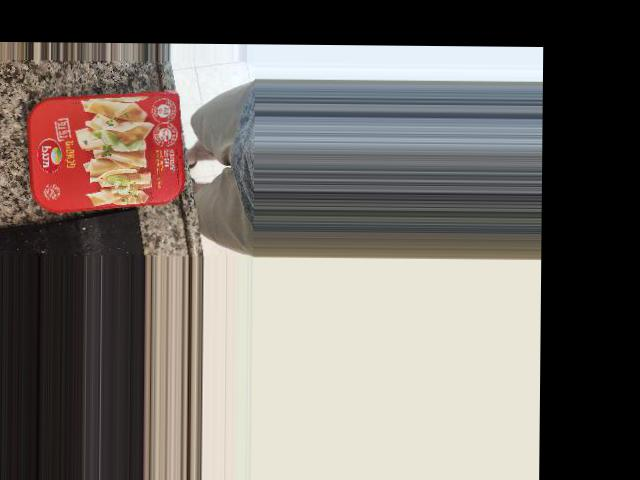cheese: (30, 85, 188, 212)
